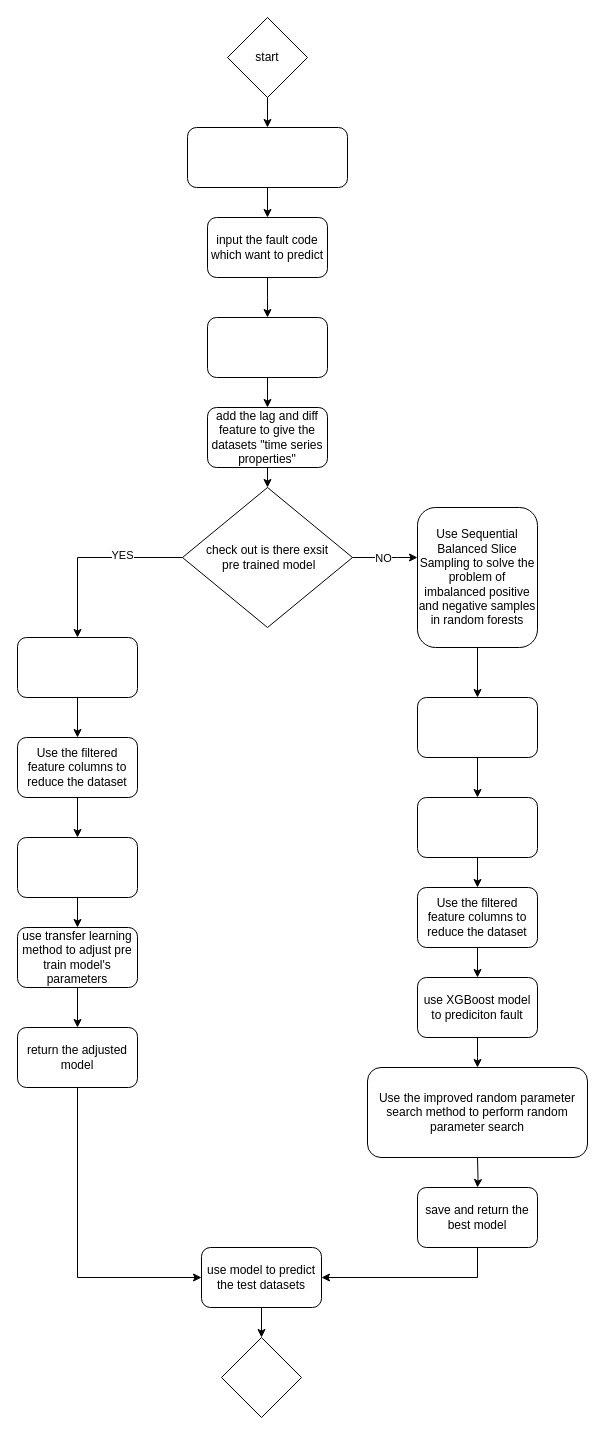
The diagram is 605 pixels wide and 1435 high, and some of its shapes have lost their labels. Here are the shapes that lost their labels. From the top down, the box of each, then its label:
(186, 126, 348, 188): input the pipeline code
(206, 316, 328, 378): Eliminate the original timing information
(16, 636, 138, 698): get the important feature of the pre trained model
(416, 696, 538, 758): use random forest method to selected the important feature
(416, 796, 538, 858): save these feature's information
(16, 836, 138, 898): compare datasets difference between the pre train one and current one
(220, 1336, 302, 1418): END
